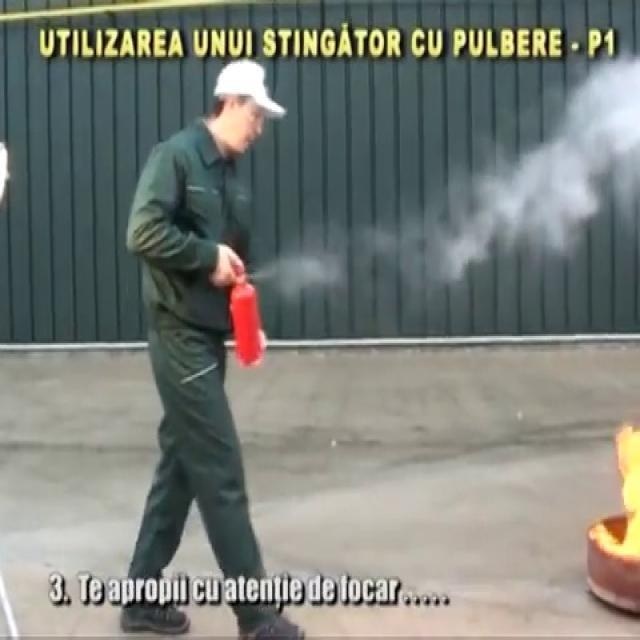Smoke: (436, 61, 640, 264)
